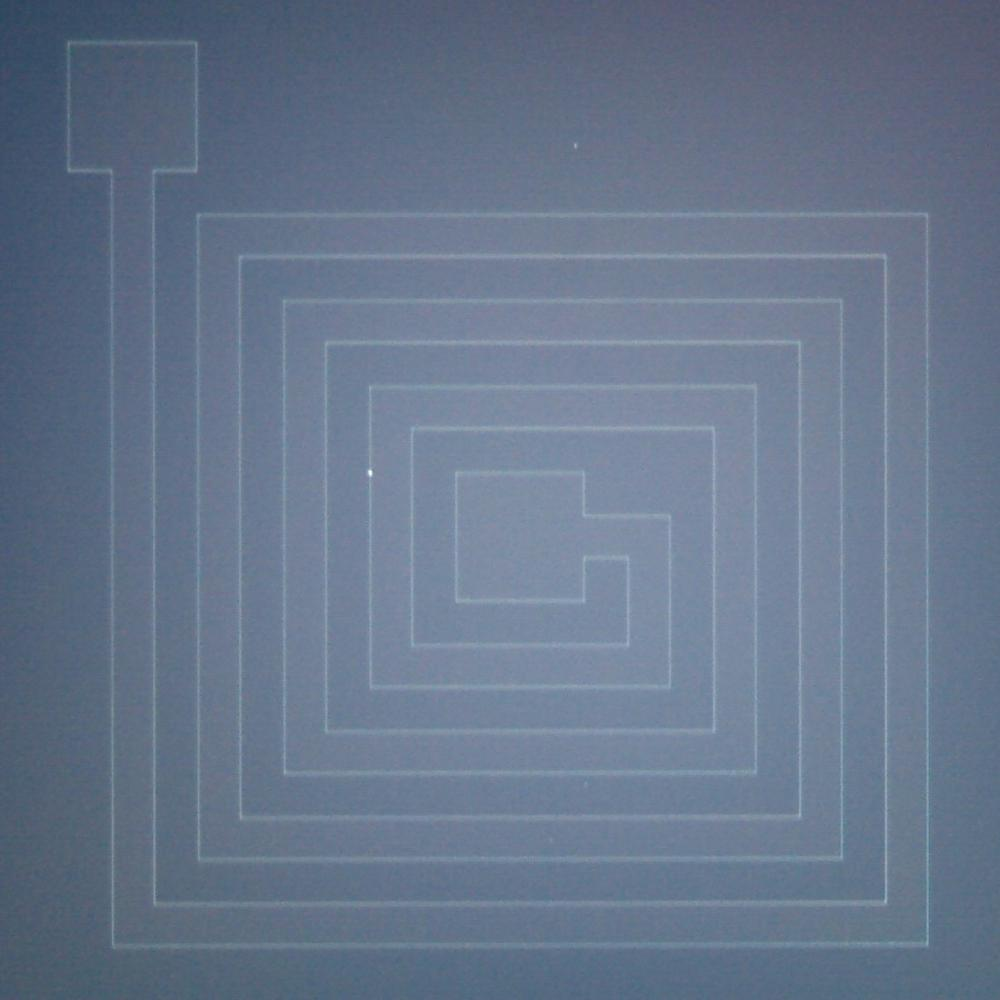dot: (367, 470, 373, 476), (573, 143, 578, 149)
